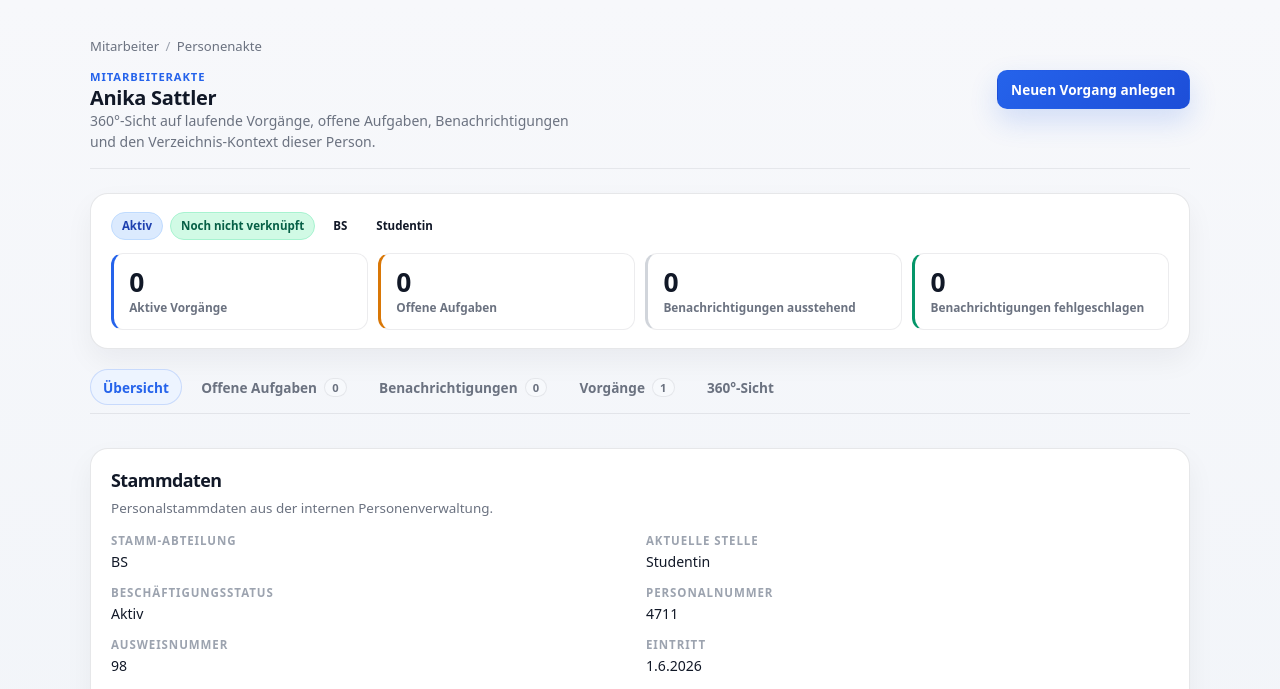
Test case: PersonWorkflowHistoryPage › offers a table mode for the person workflow history
Click the tab "Vorgänge 1": click(627, 387) [566, 369, 688, 405]
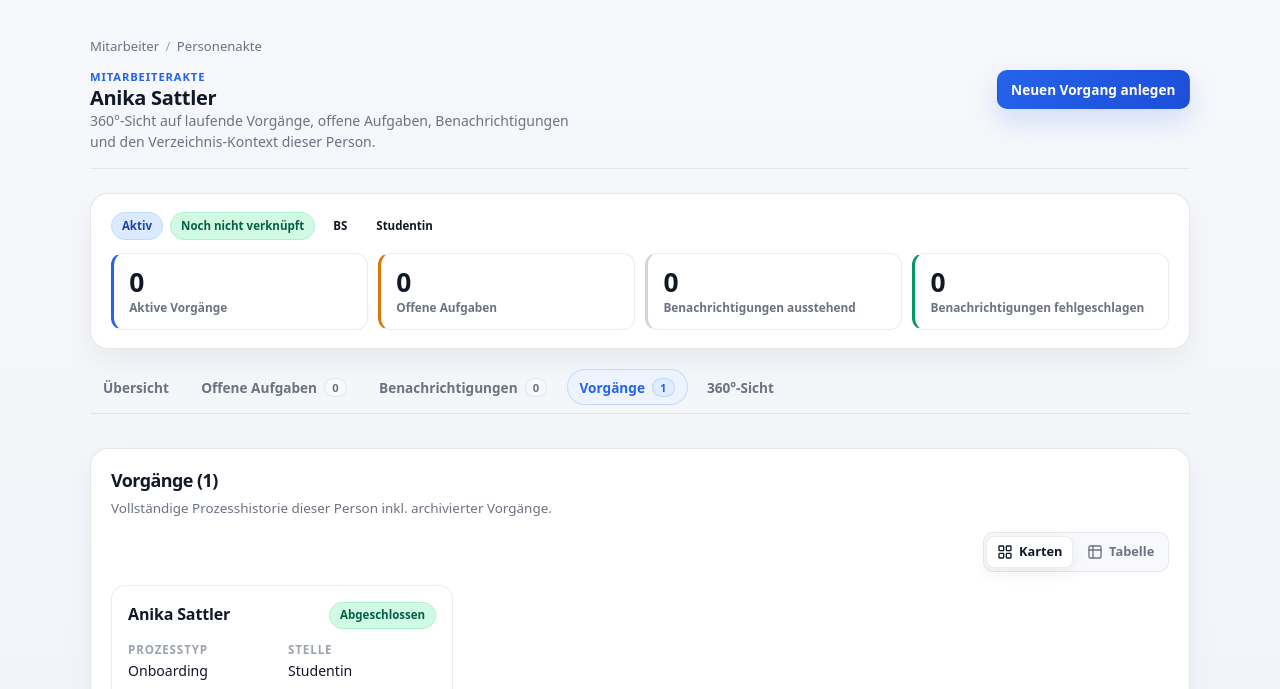
Now the heading "Vorgänge (1)" is shown, box [111, 468, 218, 492]
Click the button "Tabelle": click(1121, 552) [1077, 536, 1165, 568]
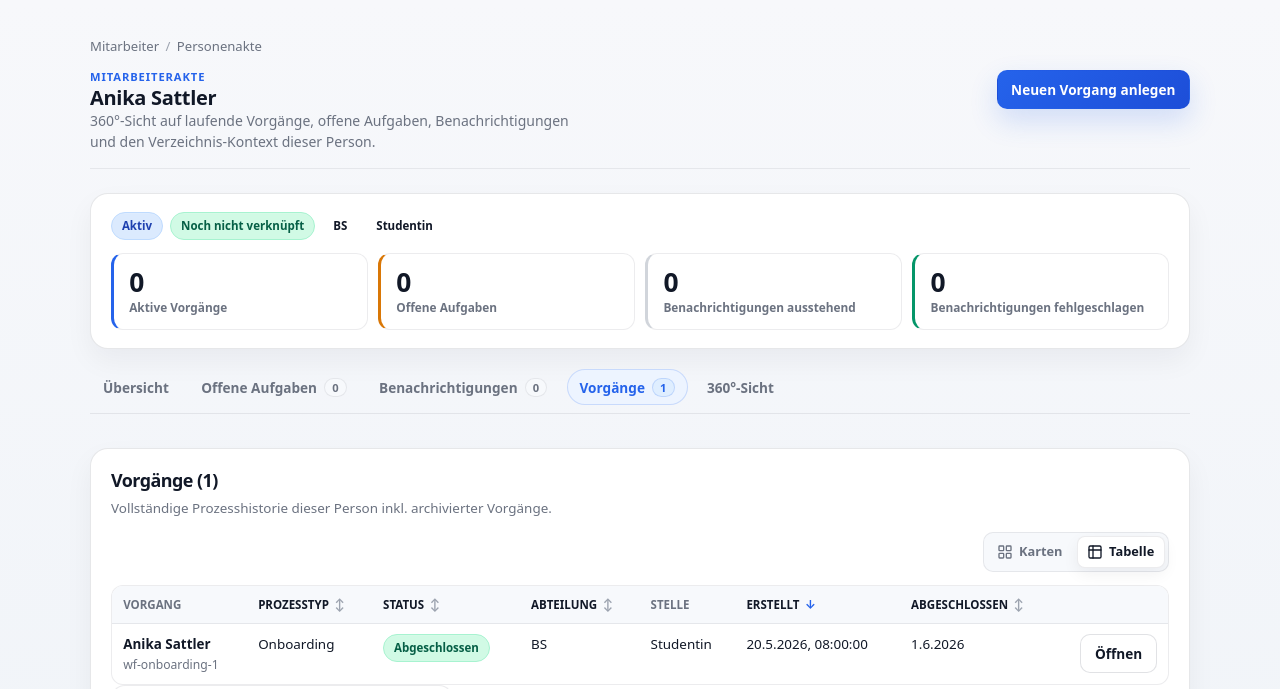
Now the table named "Tabellenansicht Vorgänge dieser Person" is shown, box [112, 586, 1168, 684]
Now the button "Erstellt" is shown, box [746, 596, 816, 614]
